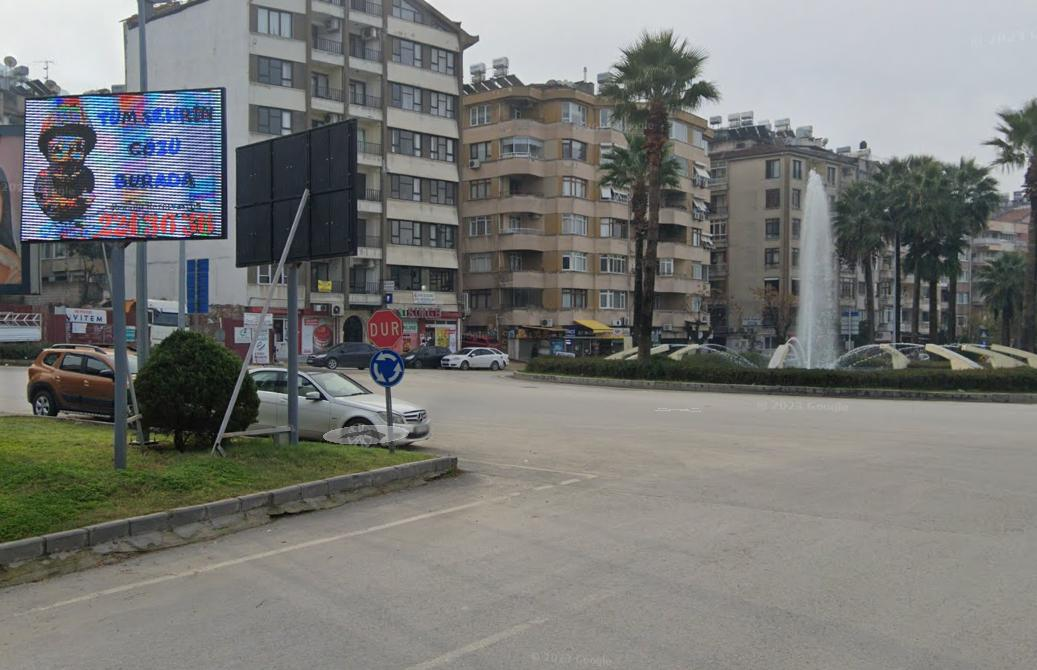crossroads: (372, 350, 403, 389)
stop: (369, 309, 404, 348)
